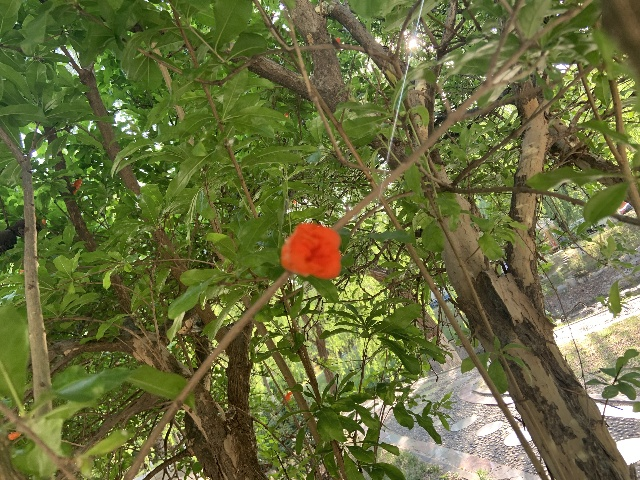bud: (280, 222, 341, 279), (7, 431, 20, 439)
flower: (71, 178, 82, 193), (282, 391, 292, 403), (334, 37, 341, 51)
